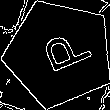P_SW: (28, 27, 91, 80)
